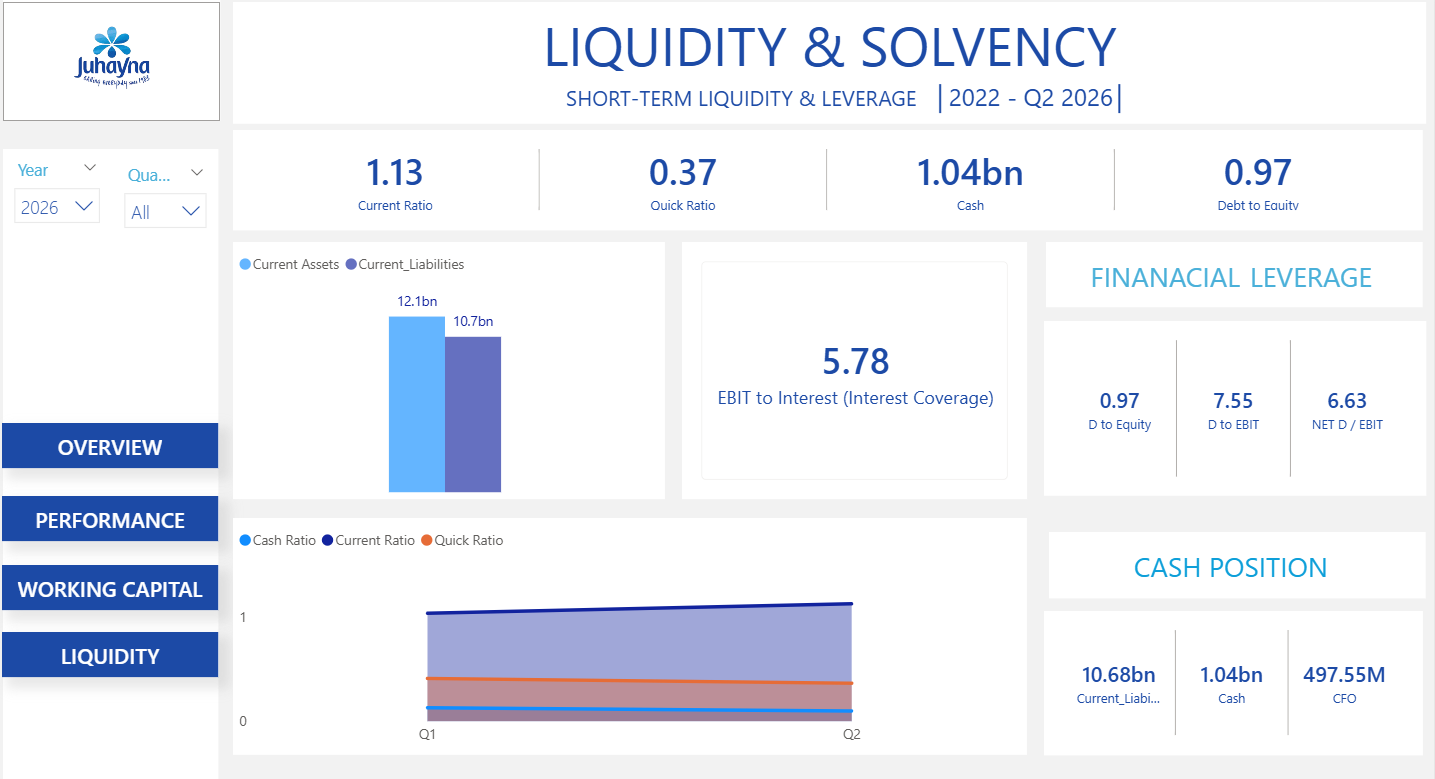

Layout of this report page (visuals, bound fields, positions):
{"tool":"powerbi","page":{"name":"LIQUIDITY","canvas":[1280,720],"ordinal":3},"visuals":[{"type":"shape","box":[10.7,4.3,192.7,109],"z":0,"group":"g2"},{"type":"shape","box":[214.4,7.8,1058.3,108.2],"z":0,"group":"g3"},{"type":"shape","box":[10.6,138.5,191.3,565.5],"z":0,"group":"g4"},{"type":"slicer","title":"quarter","fields":{"Values":["Dim_Date.Quarter"]},"box":[108.2,145.5,93.1,75.4],"z":0,"group":"g1"},{"type":"shape","box":[935.1,220.7,334.2,57.8],"z":0},{"type":"image","box":[10.7,7.8,192.1,105.4],"z":1000,"group":"g2"},{"type":"textbox","box":[214.4,7.8,1058.3,108.2],"z":1000,"group":"g3"},{"type":"group","id":"g1","title":"Slicers","box":[10.9,141.1,721.9,348.8],"z":1000,"group":"g4"},{"type":"slicer","title":"year","fields":{"Values":["Dim_Date.Year"]},"box":[10.9,141.1,95.8,79.5],"z":1000,"group":"g1"},{"type":"textbox","box":[935.8,220.6,337.6,58],"z":1000},{"type":"cardVisual","title":"CAPITALE cards","fields":{"Data":["measurehosam.Current Ratio","measurehosam.Quick Ratio","measurehosam.Cash","measurehosam.Debt to Equity"]},"box":[214.2,121,1055.1,88.9],"z":2000},{"type":"group","id":"g2","title":"Logo","box":[10.7,4.3,191.7,108.2],"z":3000},{"type":"group","id":"g3","title":"Title","box":[214.4,7.8,1057.8,107.8],"z":4000},{"type":"group","id":"g4","title":"Slicer Pane","box":[10.6,138.5,722.2,565.5],"z":5000},{"type":"actionButton","box":[9.3,381.4,191.7,40.4],"z":6000},{"type":"actionButton","box":[9.3,445.7,191.7,40.4],"z":7000},{"type":"actionButton","box":[9.3,506.8,191.7,40.4],"z":8000},{"type":"actionButton","box":[9.3,566.9,191.7,40.4],"z":9000},{"type":"clusteredColumnChart","fields":{"Y":["measurehosam.Current Assets","measurehosam.Current_Liabilities"]},"box":[214.6,220.8,383.1,227.9],"z":10000},{"type":"cardVisual","title":"CAPITALE cards","fields":{"Data":["measurehosam.Debt to Equity","measurehosam.Debt to EBIT","measurehosam.Net Debt to EBIT"]},"box":[933.7,290.8,338.7,155.2],"z":11000},{"type":"lineChart","fields":{"Category":["Dim_Date.Quarter"],"Y":["measurehosam.Cash Ratio","measurehosam.Current Ratio","measurehosam.Quick Ratio"]},"box":[214.6,465.5,704,210.1],"z":12000},{"type":"cardVisual","title":"CAPITALE cards","fields":{"Data":["measurehosam.Current_Liabilities","measurehosam.Cash","ahmed_measures.Operating Cash Flow (CFO)"]},"box":[933.3,547.8,335.6,127.8],"z":13000},{"type":"shape","box":[937.8,477.8,334.4,58.9],"z":14000},{"type":"textbox","box":[935.6,477.8,336.7,56.7],"z":15000},{"type":"cardVisual","fields":{"Data":["measurehosam.EBIT to Interest (Interest Coverage)"]},"box":[612.4,220.6,306.2,228.2],"z":16000}]}

Visuals, with their boxes on the page's 1280x720 design canvas (x1, y1, x2, y2). These are canvas units, not pixel positions in the 1435x779 screenshot, which may show the page scaled, cropped or inside an application window:
shape: box(11, 4, 203, 113)
shape: box(214, 8, 1273, 116)
shape: box(11, 138, 202, 704)
"quarter" slicer: box(108, 146, 201, 221)
shape: box(935, 221, 1269, 278)
image: box(11, 8, 203, 113)
textbox: box(214, 8, 1273, 116)
"Slicers" group: box(11, 141, 733, 490)
"year" slicer: box(11, 141, 107, 221)
textbox: box(936, 221, 1273, 279)
"CAPITALE cards" cardVisual: box(214, 121, 1269, 210)
"Logo" group: box(11, 4, 202, 112)
"Title" group: box(214, 8, 1272, 116)
"Slicer Pane" group: box(11, 138, 733, 704)
actionButton: box(9, 381, 201, 422)
actionButton: box(9, 446, 201, 486)
actionButton: box(9, 507, 201, 547)
actionButton: box(9, 567, 201, 607)
clusteredColumnChart - measurehosam.Current Assets x measurehosam.Current_Liabilities: box(215, 221, 598, 449)
"CAPITALE cards" cardVisual: box(934, 291, 1272, 446)
lineChart - Dim_Date.Quarter x measurehosam.Cash Ratio: box(215, 466, 919, 676)
"CAPITALE cards" cardVisual: box(933, 548, 1269, 676)
shape: box(938, 478, 1272, 537)
textbox: box(936, 478, 1272, 534)
cardVisual - measurehosam.EBIT to Interest (Interest Coverage): box(612, 221, 919, 449)
